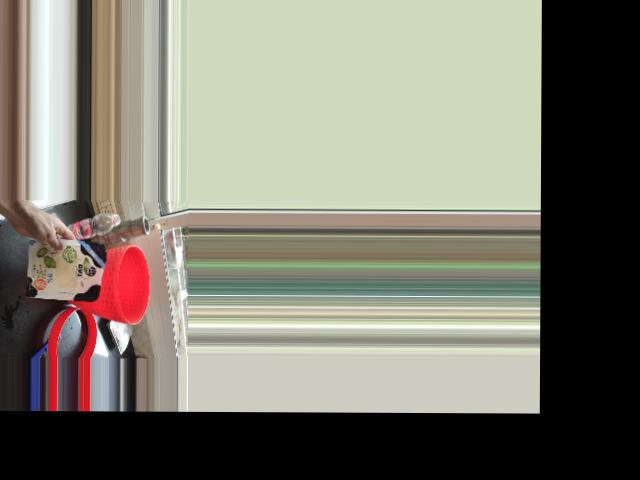cheese: (32, 224, 107, 301)
